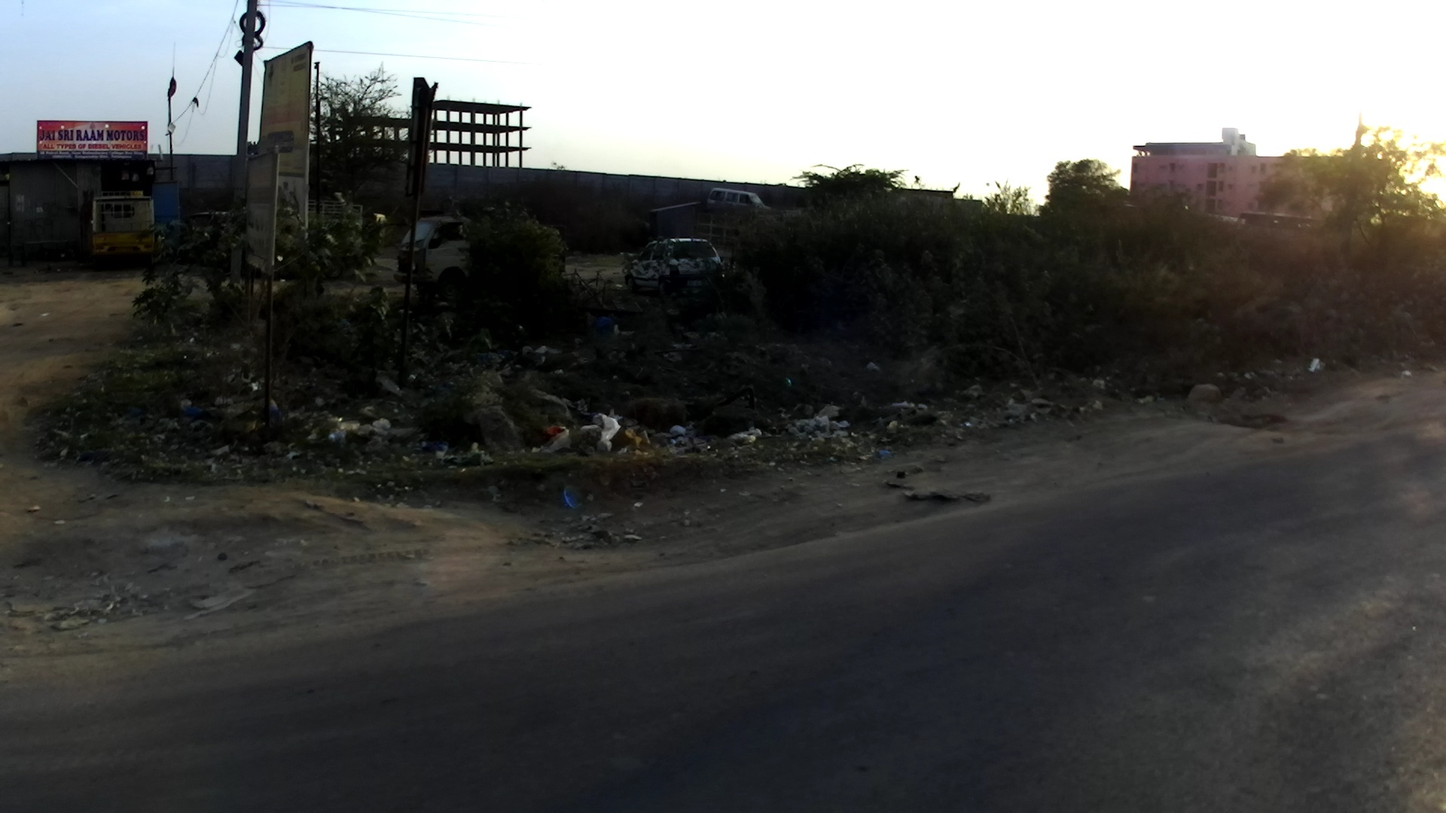car: (393, 218, 478, 297), (625, 239, 728, 297), (709, 184, 770, 223), (185, 206, 233, 254)
truck: (269, 191, 368, 277), (88, 188, 160, 266)
